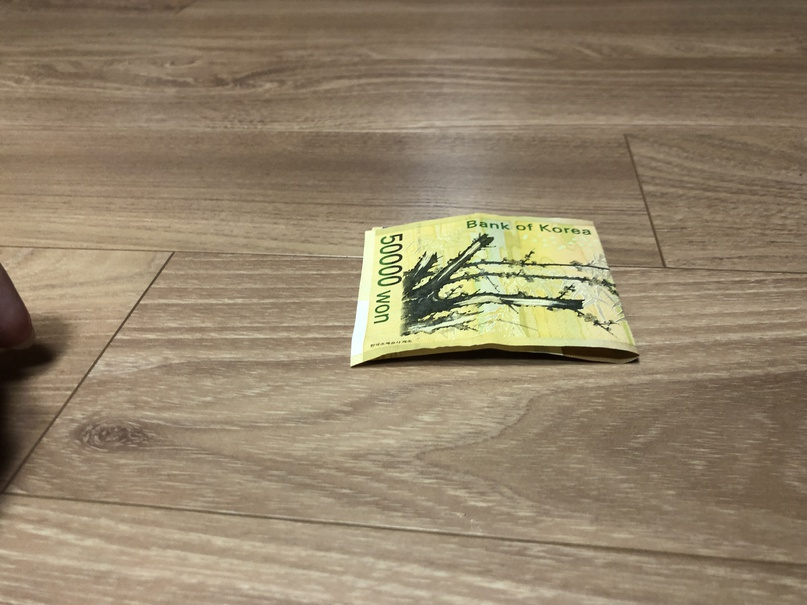50000won: (351, 212, 640, 368)
